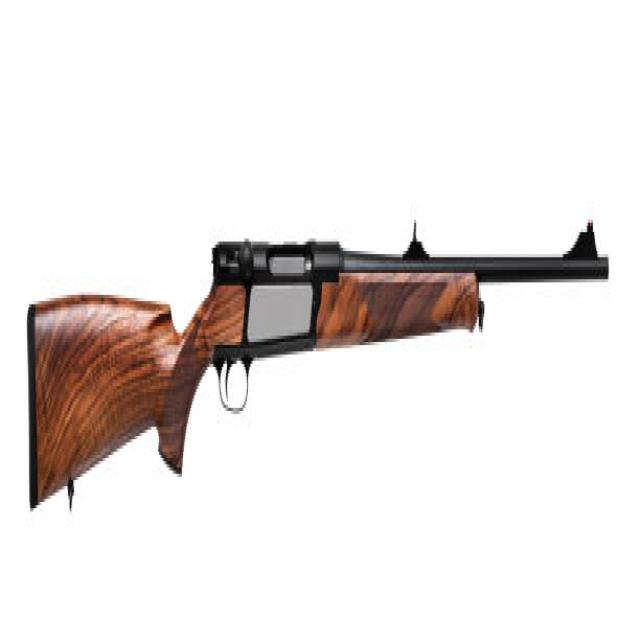rifle: (20, 171, 613, 534)
